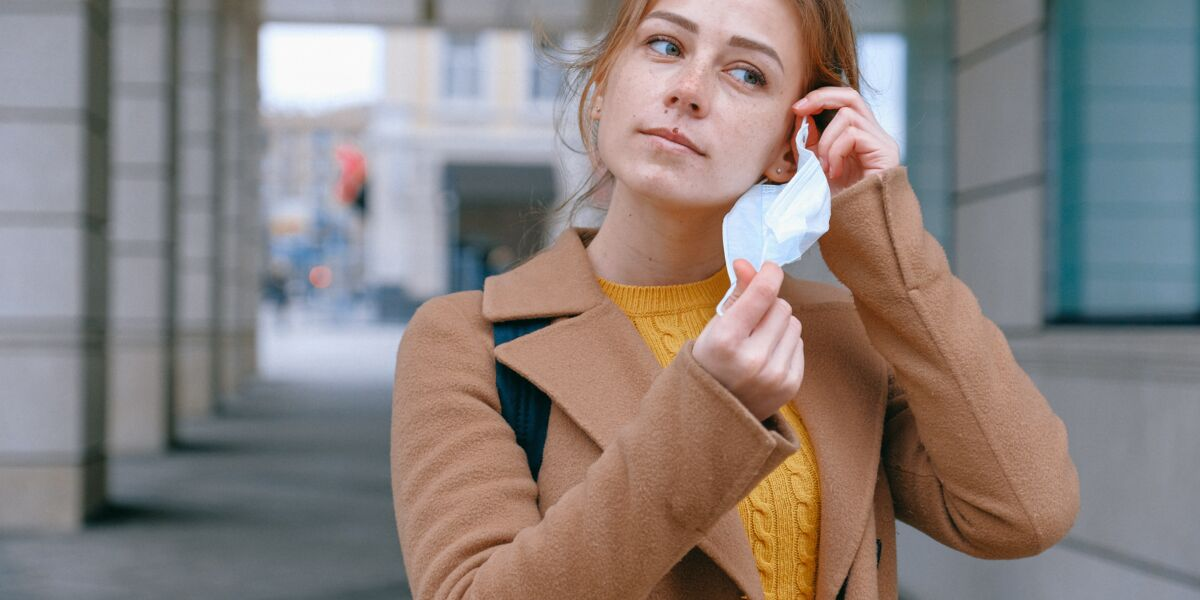without_mask: (613, 9, 784, 203)
